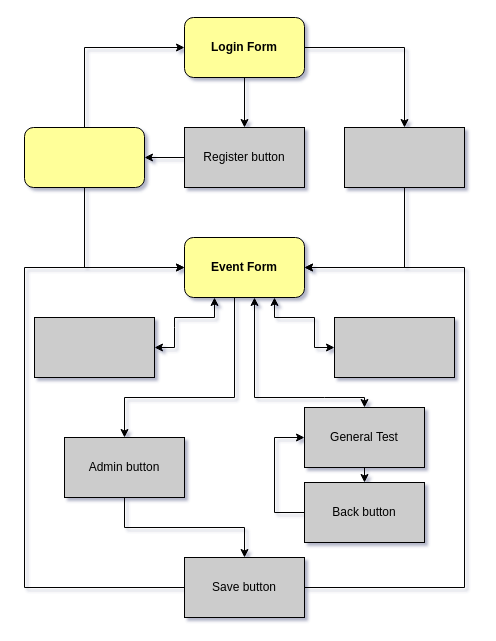
Some shapes in this 496 by 641 pixel diagram are drawn without their labels. Here are the shapes that lost their labels. From the top down, the centre of each, then its label:
At point 84,157: "Register Form".
At point 404,157: "Sign in button".
At point 94,347: "First Bulgarian Kingdom Test".
At point 394,347: "First Bulgarian Kingdom lesson".
